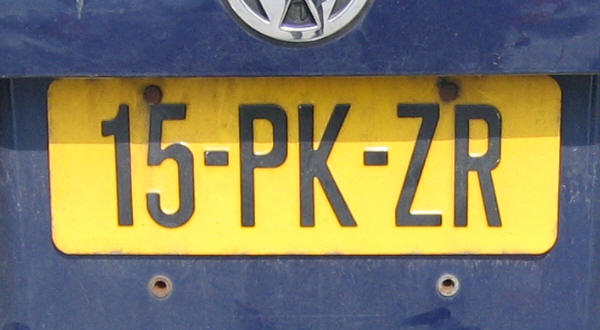license_plate: (47, 74, 560, 251)
